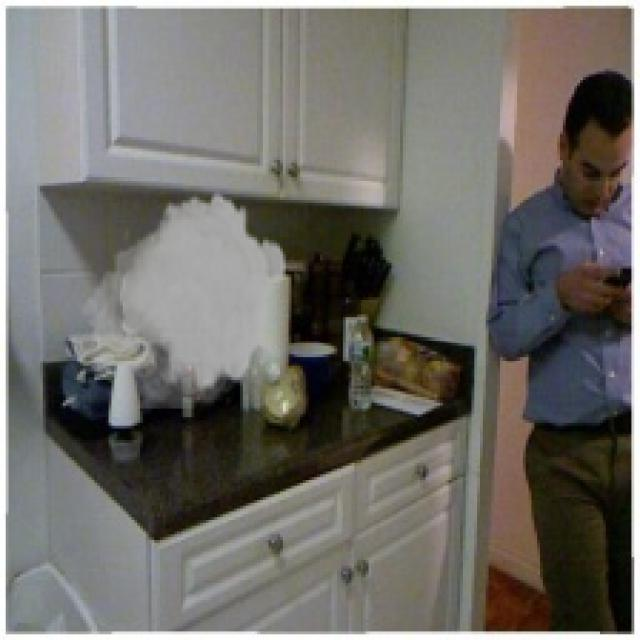smoke: (74, 188, 289, 408)
